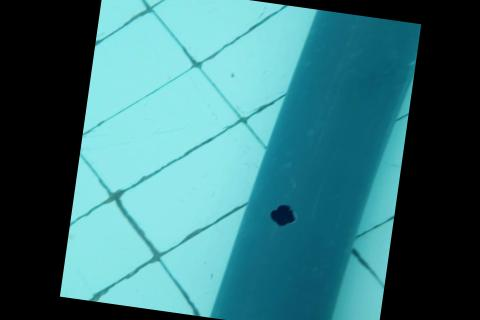kebocoran: (266, 199, 299, 227)
